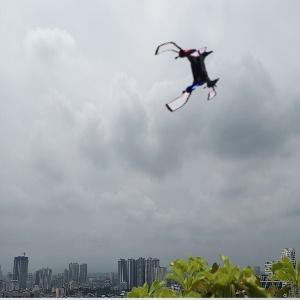drone: (149, 35, 225, 111)
